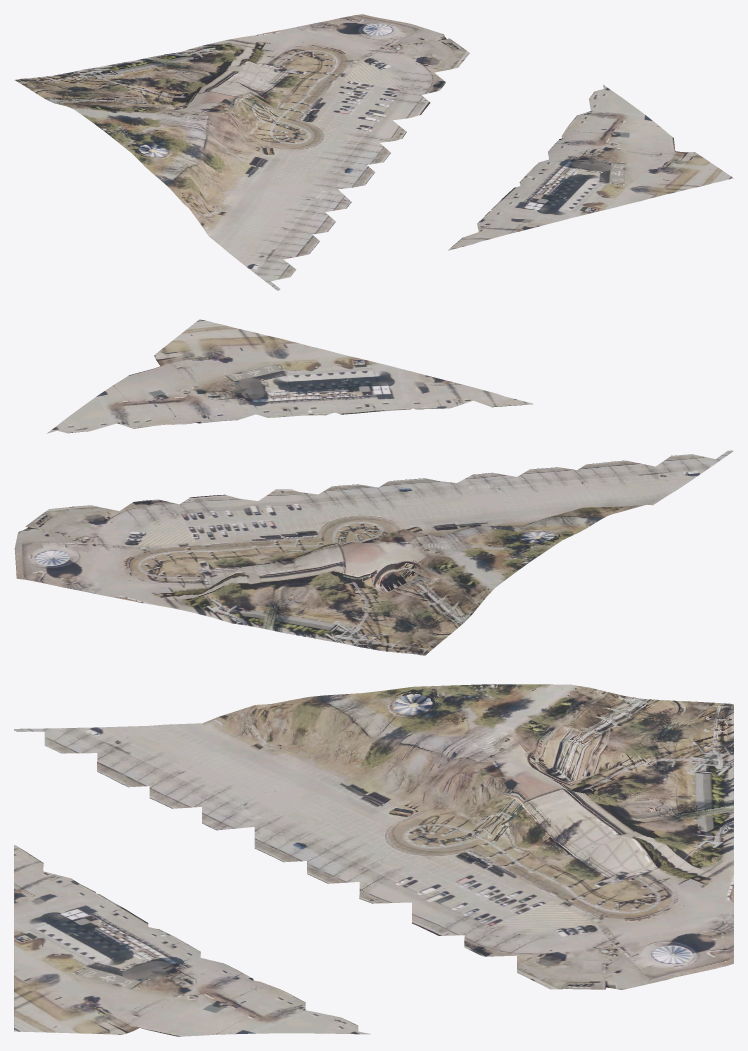
Rendered from CM_Terrain_24486363_6821636.fbx.
The picture shows the model from 3 angles, top to bottom: view 1: azimuth 30°, elevation 25°; view 2: azimuth 150°, elevation 25°; view 3: azimuth 270°, elevation 25°; orthographic projection. The views are drawn at different scales.
Parts seen in each view (by area): view 1: CM_Terrain_24486363_6821636_LOD0; view 2: CM_Terrain_24486363_6821636_LOD0; view 3: CM_Terrain_24486363_6821636_LOD0.
Part boxes in pixels (left/top/right/bottom): CM_Terrain_24486363_6821636_LOD0: left=14, top=14, right=733, bottom=290; CM_Terrain_24486363_6821636_LOD0: left=14, top=319, right=733, bottom=655; CM_Terrain_24486363_6821636_LOD0: left=14, top=684, right=733, bottom=1036.
Size of what is drawn, in the model's own units: 205 by 15.2 by 205.
